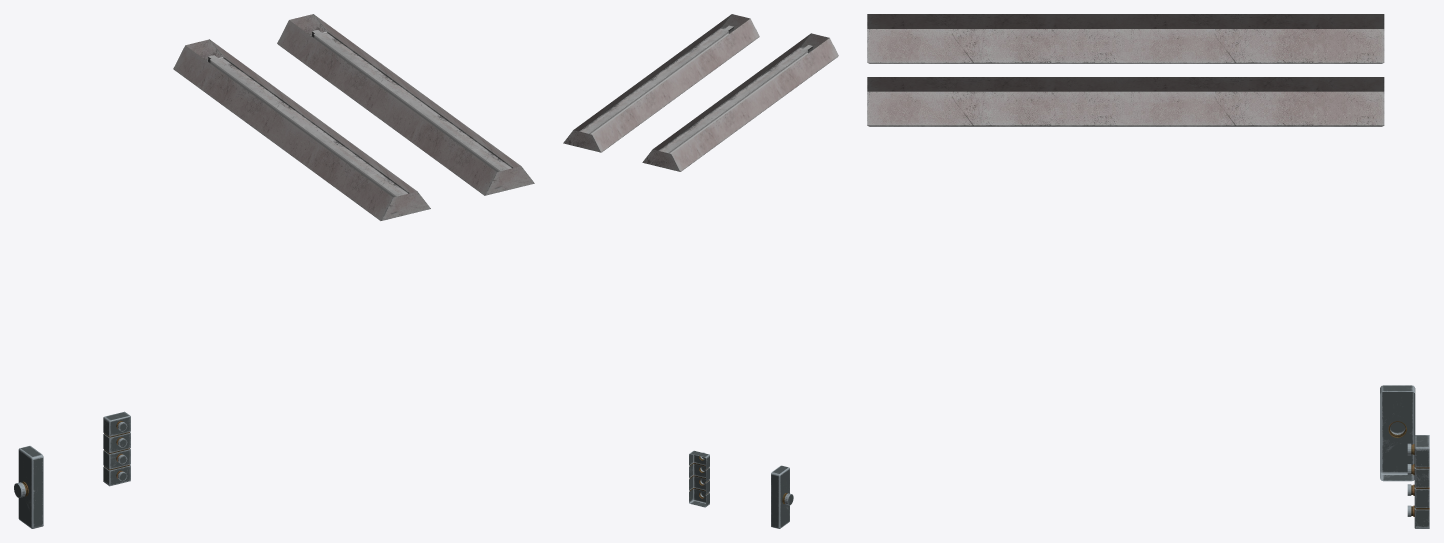
The model's file is cabin1_2.fbx.
3 views of the same model, side by side, from view 1: azimuth 30°, elevation 25°; view 2: azimuth 150°, elevation 25°; view 3: azimuth 270°, elevation 25° (orthographic). The views are drawn at different scales.
Parts seen in each view (by area): view 1: polySurface3; view 2: polySurface3; view 3: polySurface3.
Part boxes in pixels (x1,y1,x2,y2): polySurface3: (14,14,534,528); polySurface3: (563,14,838,528); polySurface3: (867,14,1429,528).
Bounding box in the file's own units: 147 × 190 × 206.
